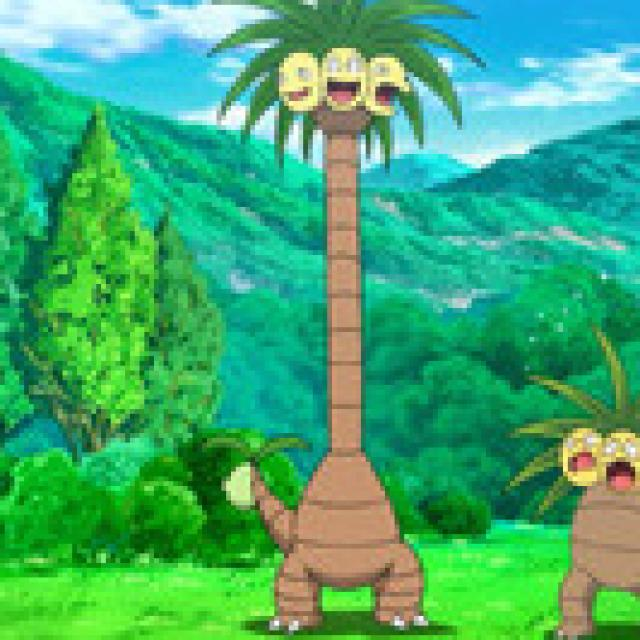Exeggutor: (258, 14, 426, 626), (542, 413, 640, 640)
